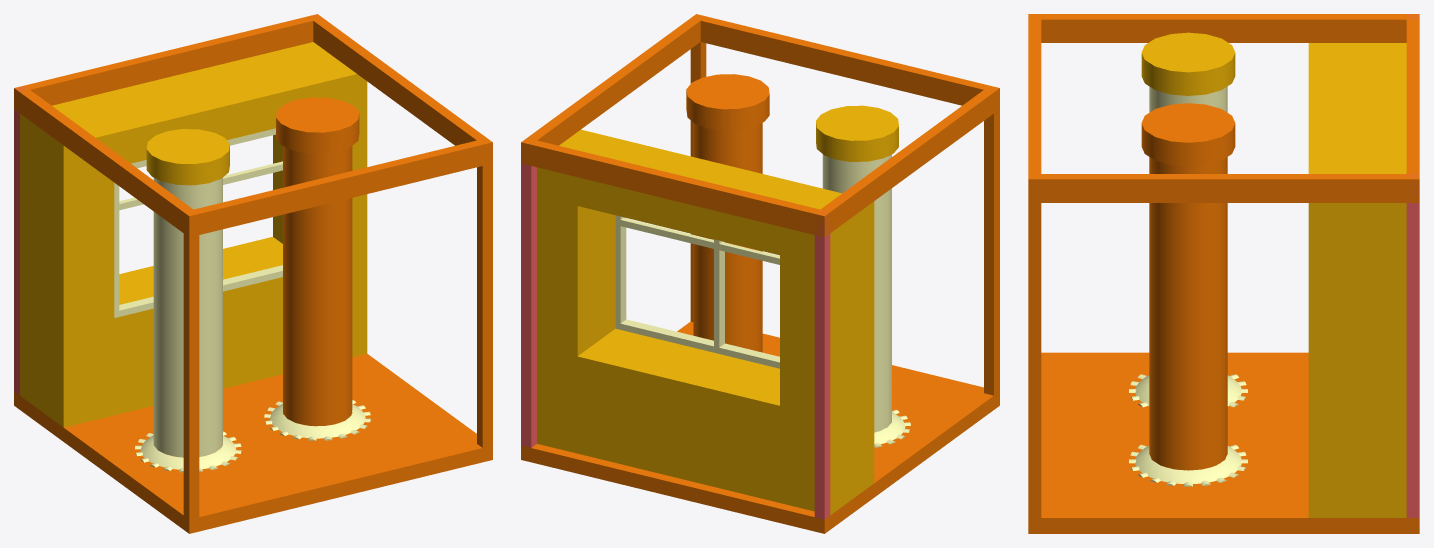
3 views of the same model, side by side, from view 1: azimuth 30°, elevation 25°; view 2: azimuth 150°, elevation 25°; view 3: azimuth 270°, elevation 25° (orthographic). The views are drawn at different scales.
Visible parts, largest first — view 1: 物件_5, 物件_54, 物件_7, 物件_31, 物件_61, 物件_60, 物件_59, 物件_57, 物件_62, 物件_55, 物件_6, 物件_30 (+5 smaller); view 2: 物件_5, 物件_54, 物件_60, 物件_7, 物件_61, 物件_59, 物件_31, 物件_62, 物件_58, 物件_57, 物件_56, 物件_6 (+6 smaller); view 3: 物件_5, 物件_54, 物件_7, 物件_62, 物件_59, 物件_6, 物件_30, 物件_55, 物件_56, 物件_60, 物件_61, 物件_29 (+2 smaller).
Boxes of the visible parts, bbox=[...] form: 物件_5: bbox=[20, 42, 367, 427]; 物件_54: bbox=[14, 353, 492, 533]; 物件_7: bbox=[283, 146, 352, 425]; 物件_31: bbox=[153, 177, 222, 457]; 物件_61: bbox=[184, 138, 492, 236]; 物件_60: bbox=[14, 14, 322, 106]; 物件_59: bbox=[14, 85, 198, 235]; 物件_57: bbox=[183, 209, 199, 519]; 物件_62: bbox=[313, 14, 492, 163]; 物件_55: bbox=[477, 138, 492, 447]; 物件_6: bbox=[276, 97, 359, 153]; 物件_30: bbox=[146, 129, 229, 185]; 物件_5: bbox=[537, 129, 874, 514]; 物件_54: bbox=[521, 321, 999, 533]; 物件_60: bbox=[521, 138, 830, 236]; 物件_7: bbox=[693, 123, 762, 352]; 物件_61: bbox=[693, 14, 997, 105]; 物件_59: bbox=[814, 88, 999, 237]; 物件_31: bbox=[822, 154, 891, 432]; 物件_62: bbox=[521, 15, 703, 163]; 物件_58: bbox=[814, 212, 830, 519]; 物件_57: bbox=[984, 85, 999, 395]; 物件_56: bbox=[521, 139, 536, 447]; 物件_6: bbox=[686, 74, 769, 130]; 物件_5: bbox=[1308, 43, 1406, 517]; 物件_54: bbox=[1028, 352, 1419, 533]; 物件_7: bbox=[1149, 157, 1227, 470]; 物件_62: bbox=[1028, 174, 1419, 202]; 物件_59: bbox=[1029, 14, 1419, 42]; 物件_6: bbox=[1141, 103, 1235, 166]; 物件_30: bbox=[1141, 32, 1235, 95]; 物件_55: bbox=[1028, 174, 1041, 517]; 物件_56: bbox=[1406, 174, 1419, 517]; 物件_60: bbox=[1406, 15, 1419, 202]; 物件_61: bbox=[1028, 14, 1041, 202]; 物件_29: bbox=[1135, 446, 1241, 483].
Size of the model in its own units: 48 by 48 by 48.
